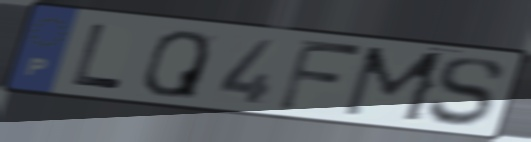4: (215, 37, 278, 105)
F: (274, 36, 367, 115)
L: (68, 21, 124, 92)
M: (337, 44, 451, 126)
Q: (140, 28, 213, 101)
S: (425, 56, 507, 128)
